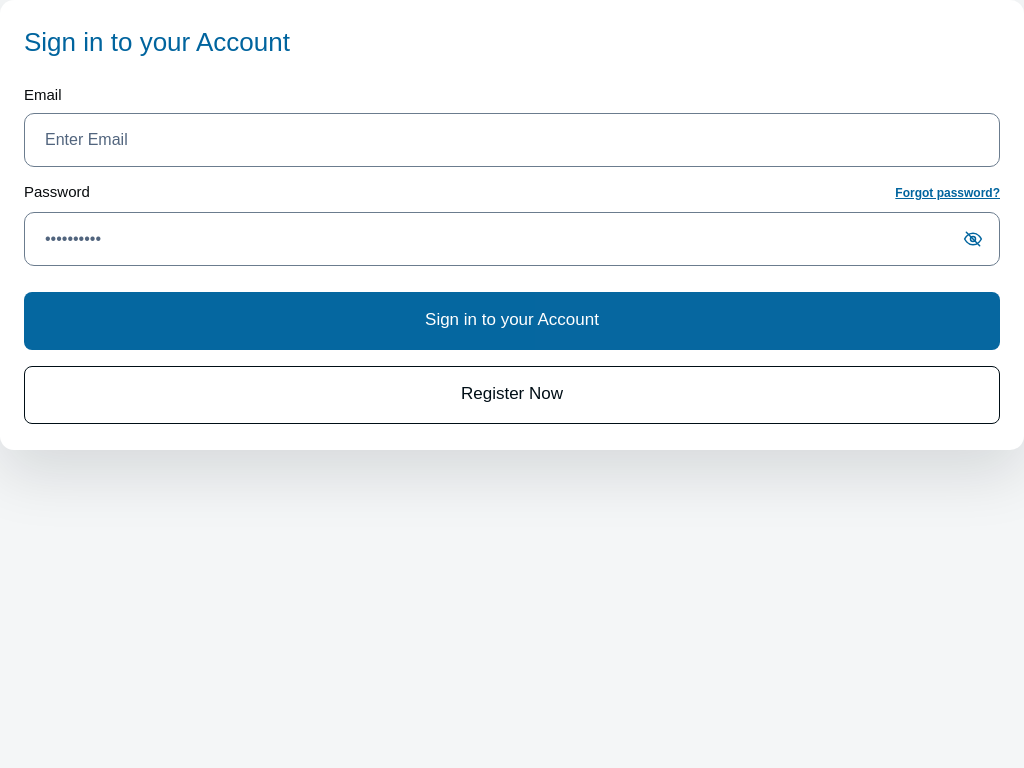
Test: HomeSignIn component › displays credential errors and allows retry: {"error":"Email or password is incorrect."}
This screenshot has width=1024, height=768.
In the field labelled "Email": (512, 140) [24,113,1000,167], type "borrower@example.com"
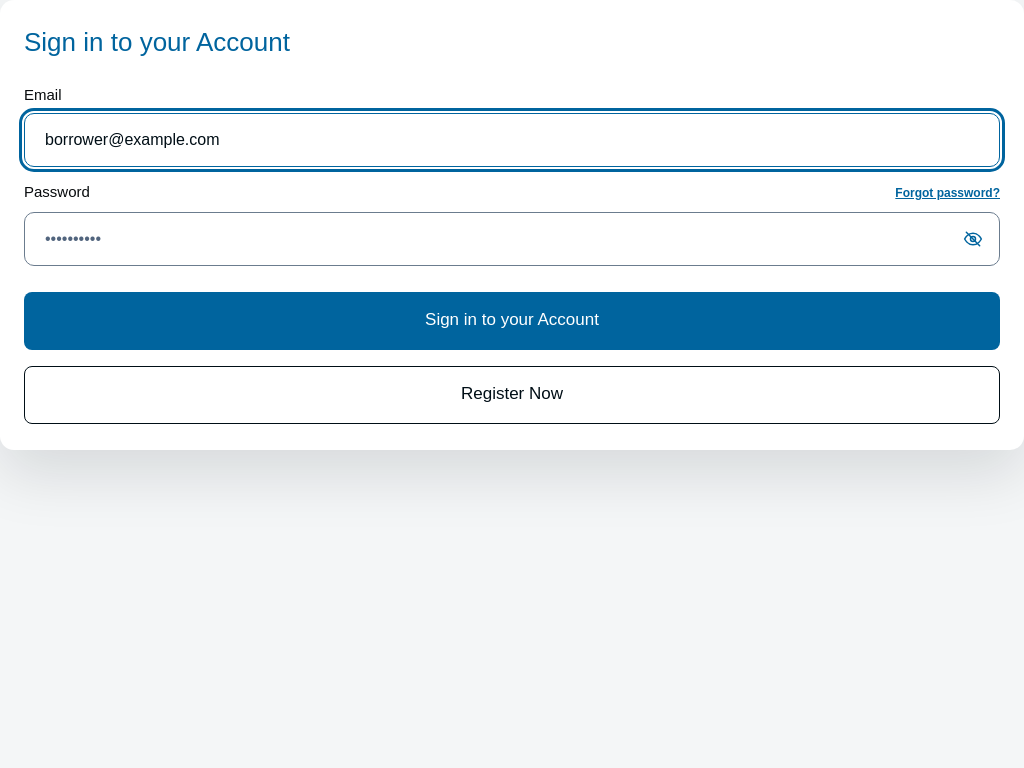
In the password field labelled "Password": (512, 239) [24,212,1000,266], type "BorrowerPassword123!"
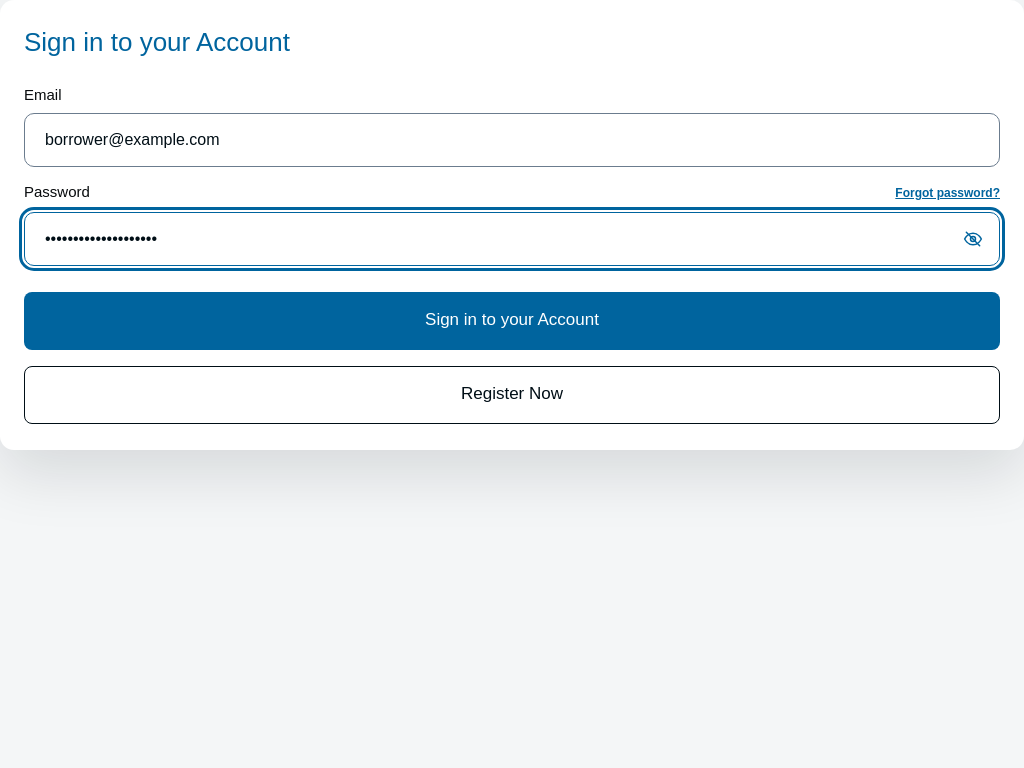
Click the button "Sign in to your Account": click(512, 321) [24,292,1000,350]
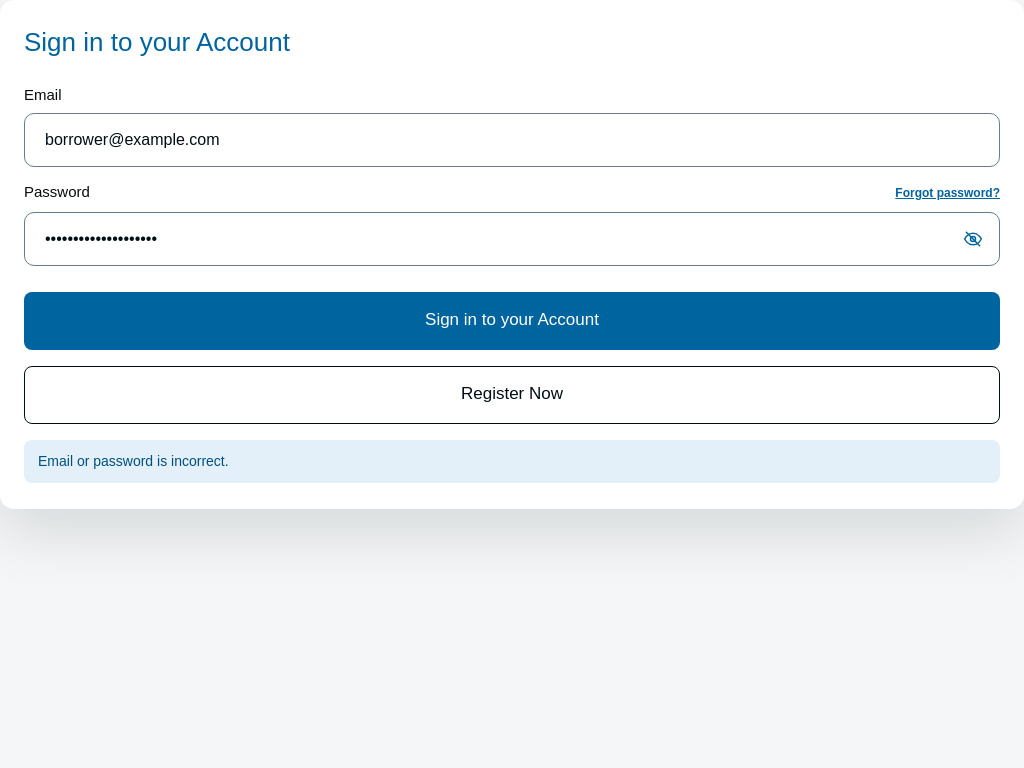
Expected: the message reads "Email or password is incorrect.", [38,453,229,469]
